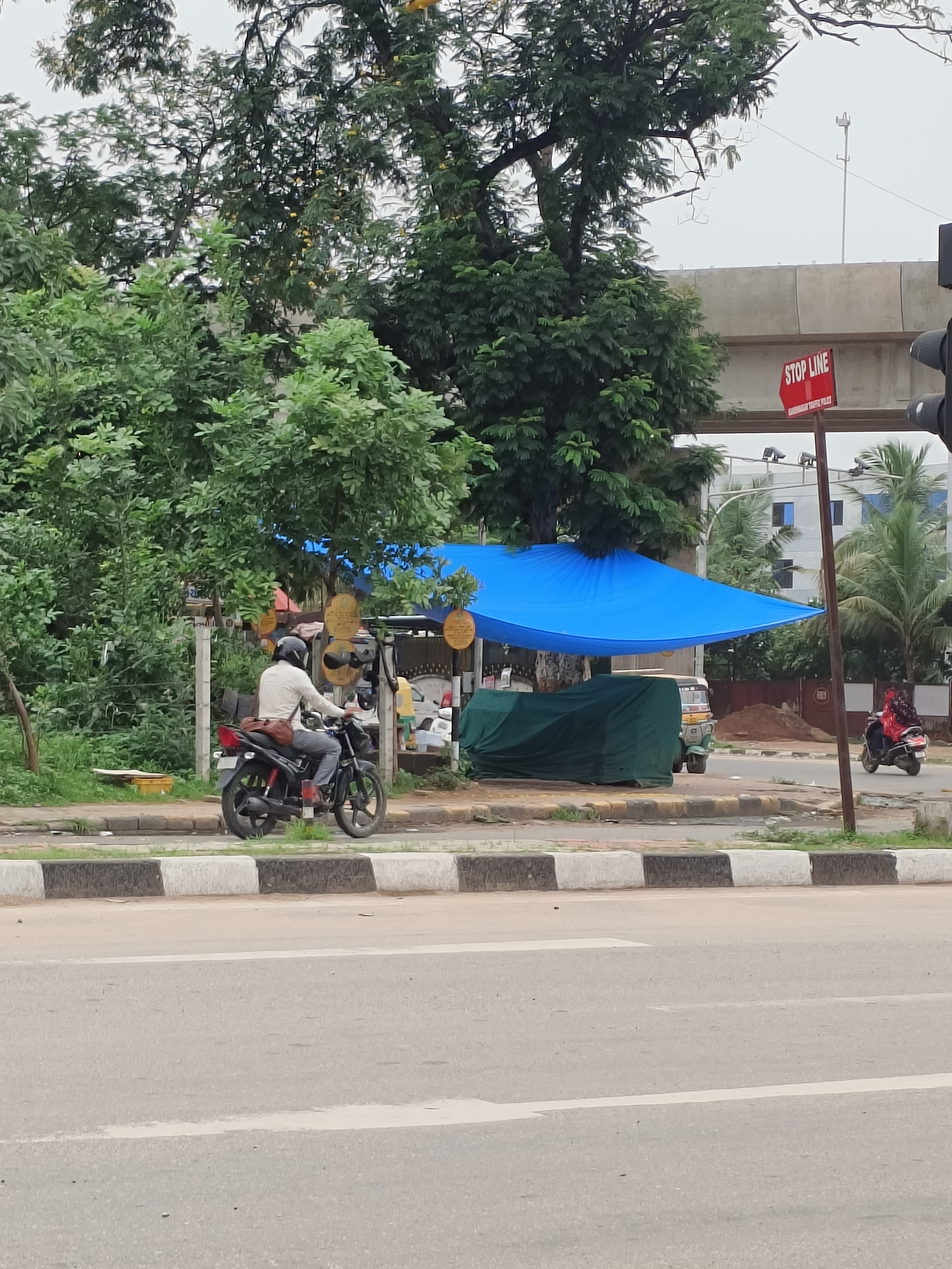BikeWithRider: (205, 628, 394, 847), (853, 683, 934, 779)
Helmet: (269, 631, 314, 676)
